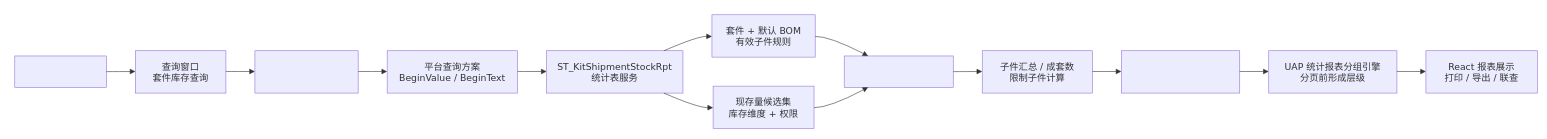
The diagram is 1547 pixels wide and 139 high, and some of its shapes have lost their labels. The shapes that lost their labels are listed below. From the top down, each one's box as (x1, y1, x2, y2) in pixels, then its label:
(14, 55, 106, 87): 开发者 / 用户
(254, 50, 358, 93): ST 报表专用扩展 可用量公式弹窗
(844, 55, 953, 87): 子件库存批量匹配
(1121, 50, 1240, 93): 最低库存粒度临时表 完整父路径键
